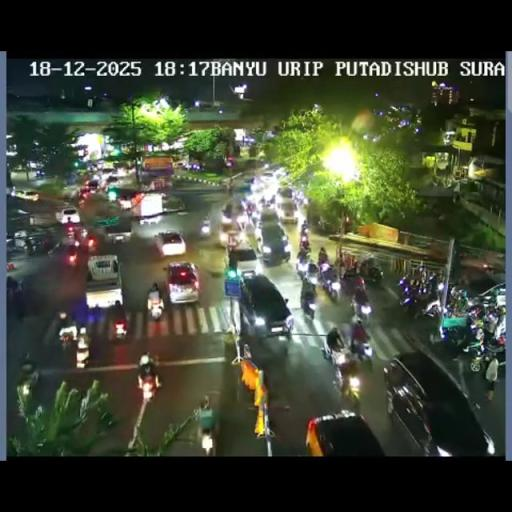Car: (384, 349, 494, 453), (235, 271, 294, 344), (306, 411, 388, 455), (85, 256, 123, 311), (166, 261, 200, 304), (220, 198, 250, 246), (258, 221, 290, 263), (228, 242, 258, 277), (470, 282, 504, 312), (135, 194, 163, 223), (155, 230, 186, 256), (276, 192, 298, 222), (102, 222, 132, 244), (160, 193, 185, 214), (55, 206, 80, 224), (80, 180, 98, 198), (14, 189, 38, 201), (66, 245, 78, 266), (198, 218, 210, 238), (99, 166, 117, 178), (34, 169, 45, 177)
Motorcycle: (461, 327, 504, 374), (434, 316, 473, 354), (327, 350, 359, 396), (340, 270, 367, 304), (348, 333, 374, 368), (400, 285, 427, 318), (317, 264, 341, 301), (16, 360, 39, 395), (447, 286, 470, 316), (138, 370, 160, 400), (266, 392, 292, 414), (146, 293, 165, 321), (59, 327, 77, 356), (354, 298, 372, 325), (13, 287, 28, 319), (339, 320, 355, 350), (76, 336, 90, 369), (301, 290, 317, 318), (492, 309, 506, 340), (200, 426, 215, 454), (466, 303, 484, 324), (38, 234, 56, 254), (425, 274, 438, 300), (366, 266, 384, 284), (317, 216, 335, 234), (6, 275, 20, 298), (114, 317, 128, 340), (296, 251, 310, 273), (320, 338, 333, 361), (246, 204, 260, 224), (259, 191, 275, 208), (306, 261, 320, 280), (485, 263, 504, 276), (25, 237, 37, 256), (398, 274, 410, 292), (317, 251, 329, 267), (86, 236, 97, 253), (358, 259, 369, 276), (219, 230, 229, 246), (300, 238, 310, 252), (78, 227, 88, 240), (301, 219, 308, 233), (227, 182, 234, 195), (74, 238, 79, 249)
